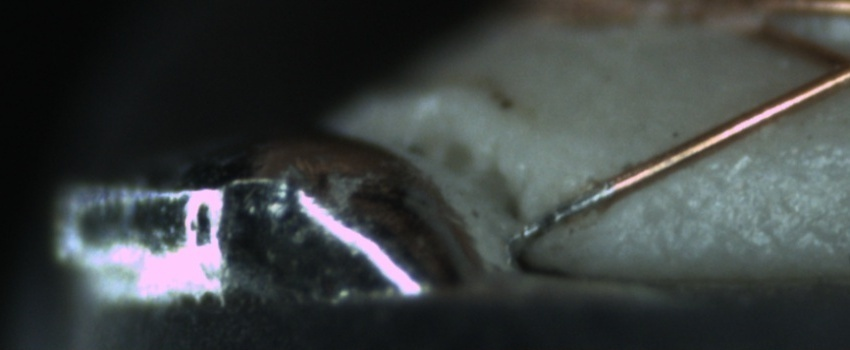CL: (801, 35, 850, 93)
TS: (513, 181, 616, 243)
TTCW: (506, 167, 635, 245)
